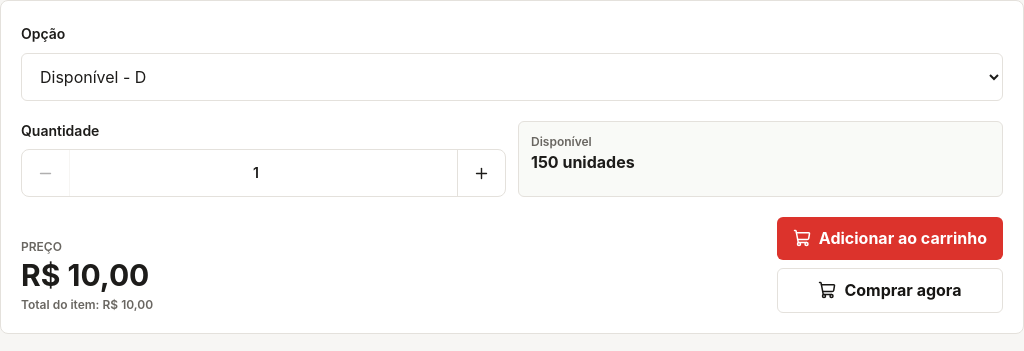
escolhe uma variação disponível e respeita o limite de 99 itens
Expected: the dropdown shows "Disponível - D", [21, 53, 1003, 101]
Replace the text in the number field with "999" at (264, 173), box [70, 150, 457, 196]
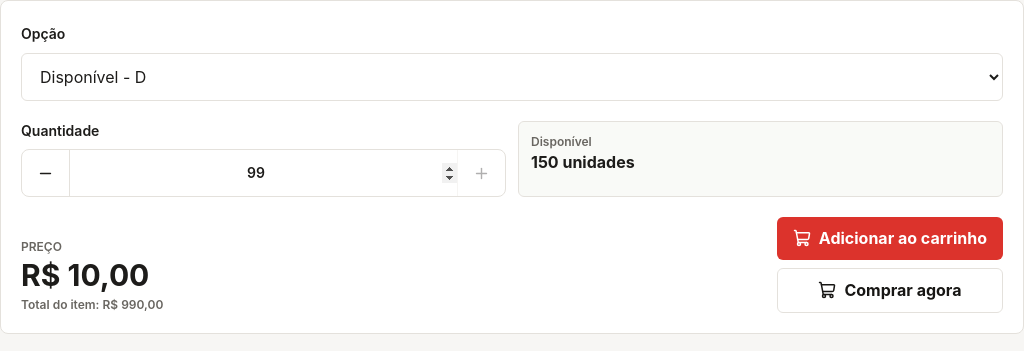
Expected: the number field holds "99", [70, 150, 457, 196]
Expected: the button named "Aumentar quantidade" is disabled, [457, 150, 505, 196]
